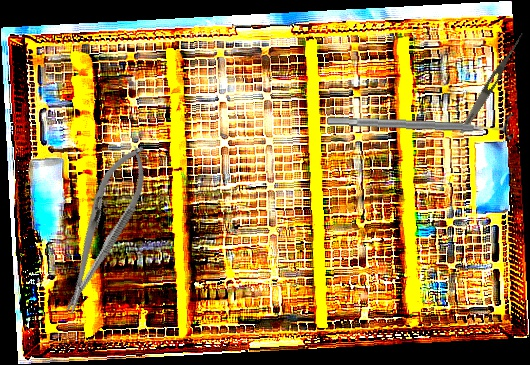Dressing Forceps: (457, 30, 526, 136)
Fixation Ring: (327, 105, 514, 142)
Needle Holder: (47, 137, 160, 321)
